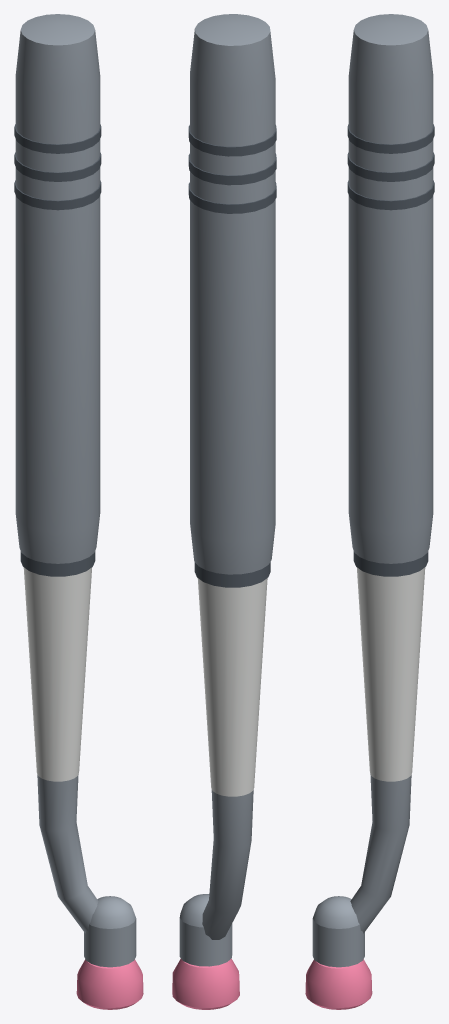
File: tool_polisher.glb
3 renders of one model, left to right at view 1: azimuth 90°, elevation 25°; view 2: azimuth 210°, elevation 25°; view 3: azimuth 270°, elevation 25°, orthographic.
Parts seen in each view (by area): view 1: tool_polisher, Cup; view 2: tool_polisher, Cup; view 3: tool_polisher, Cup.
Boxes of the visible parts, <box> form: tool_polisher: <box>14,14,136,967</box>; Cup: <box>76,959,143,1009</box>; tool_polisher: <box>179,14,276,966</box>; Cup: <box>172,958,239,1009</box>; tool_polisher: <box>312,14,434,967</box>; Cup: <box>305,959,372,1009</box>.
Bounding box in the file's own units: 0.7 × 8.65 × 1.04.
